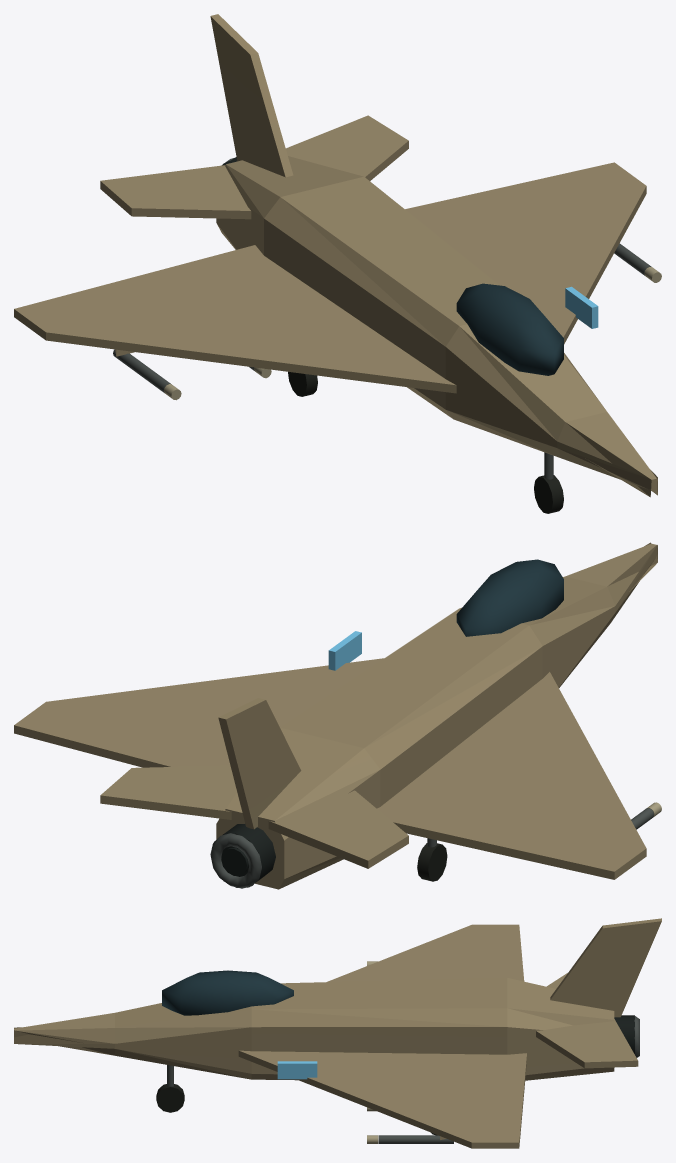
The model's file is fighter-lod.glb.
3 renders of one model, top to bottom at view 1: azimuth 30°, elevation 25°; view 2: azimuth 150°, elevation 25°; view 3: azimuth 270°, elevation 25°, orthographic. The views are drawn at different scales.
Parts seen in each view (by area): view 1: equipment (×2), marking; view 2: equipment (×2), marking; view 3: equipment (×2), marking.
Boxes of the visible parts, x1=… form: equipment (×2): x1=14, y1=14, x2=661, y2=513; marking: x1=565, y1=286, x2=598, y2=328; equipment (×2): x1=14, y1=542, x2=661, y2=889; marking: x1=328, y1=631, x2=361, y2=670; equipment (×2): x1=14, y1=918, x2=661, y2=1148; marking: x1=277, y1=1061, x2=317, y2=1079.
Size of the model in its own units: 6.5 by 2.64 by 8.17.
